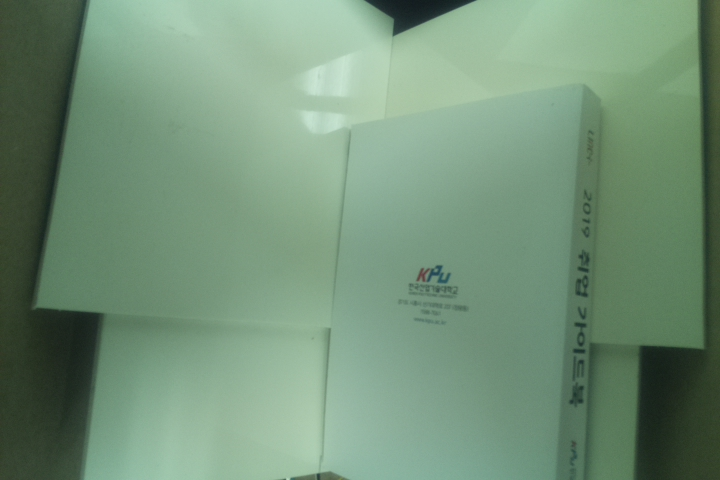book: (321, 81, 611, 480)
